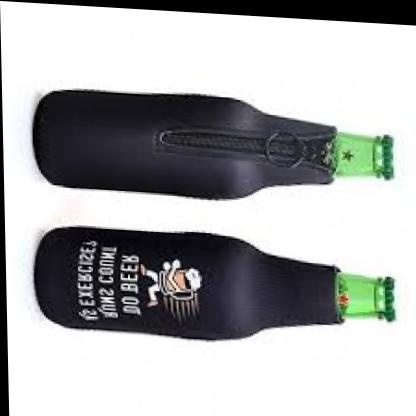trash: (34, 227, 339, 338), (33, 90, 336, 198)
